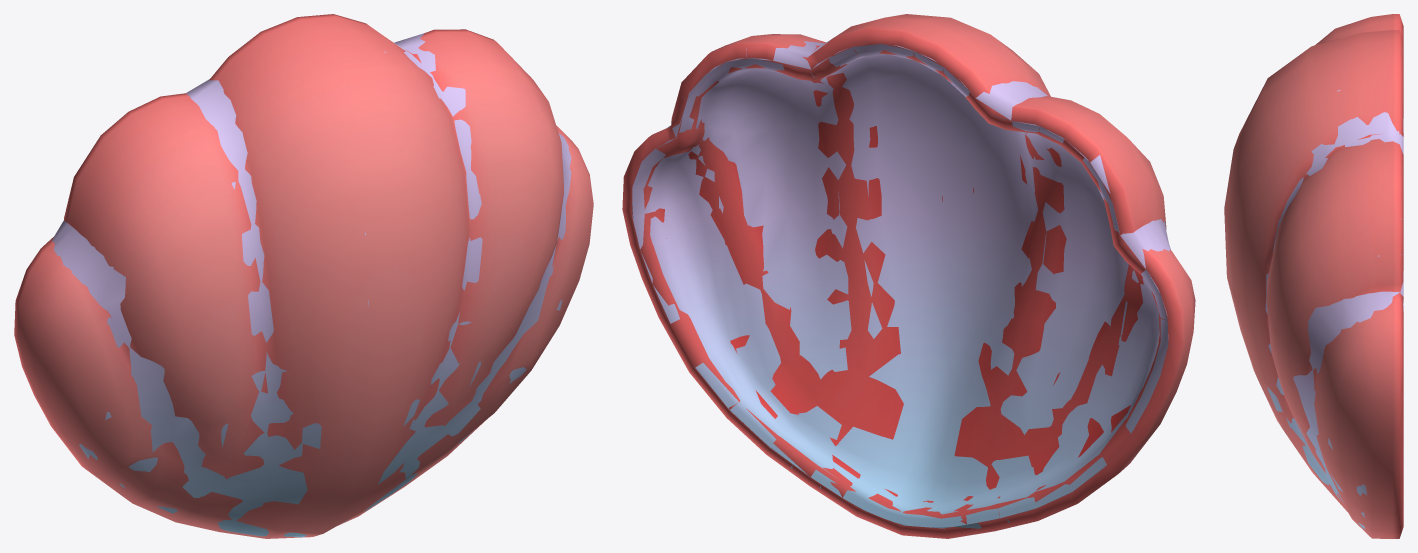
File: Shell_Keiko.glb
3 renders of one model, left to right at view 1: azimuth 30°, elevation 25°; view 2: azimuth 150°, elevation 25°; view 3: azimuth 270°, elevation 25°, orthographic. The views are drawn at different scales.
Visible parts, largest first — view 1: Shell, Retopo_Shell; view 2: Retopo_Shell, Shell; view 3: Shell, Retopo_Shell.
Part boxes in pixels (x1,y1,x2,y2): Shell: (14,14,593,538); Retopo_Shell: (52,33,571,537); Retopo_Shell: (632,40,1170,528); Shell: (622,14,1195,538); Shell: (1224,14,1403,538); Retopo_Shell: (1265,90,1403,529).
Bounding box in the file's own units: 75.04 × 64.5 × 21.87.
Materials: 2 (2 with a texture image).
